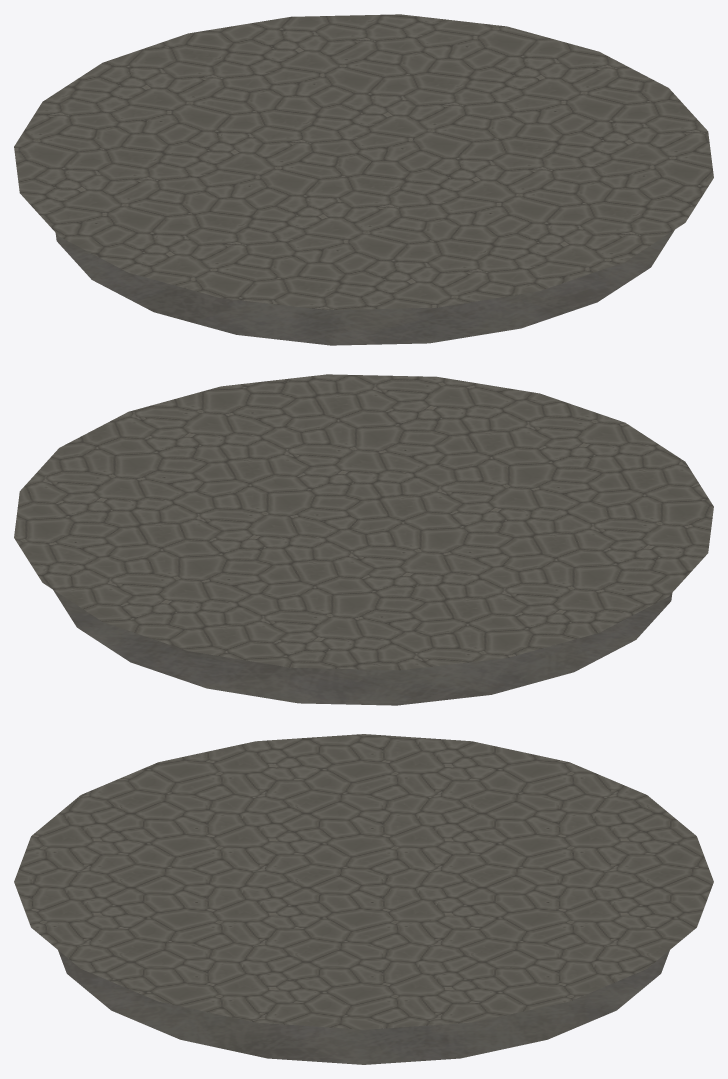
File: Tower_Roof.fbx
3 views of the same model, one above another, from view 1: azimuth 30°, elevation 25°; view 2: azimuth 150°, elevation 25°; view 3: azimuth 270°, elevation 25° (orthographic).
Visible parts, largest first — view 1: Tower_Roof; view 2: Tower_Roof; view 3: Tower_Roof.
Part boxes in pixels (x1,y1,x2,y2): Tower_Roof: [14, 14, 713, 345]; Tower_Roof: [14, 374, 713, 705]; Tower_Roof: [14, 734, 713, 1064].
Bounding box in the file's own units: 56 × 4.5 × 56.
